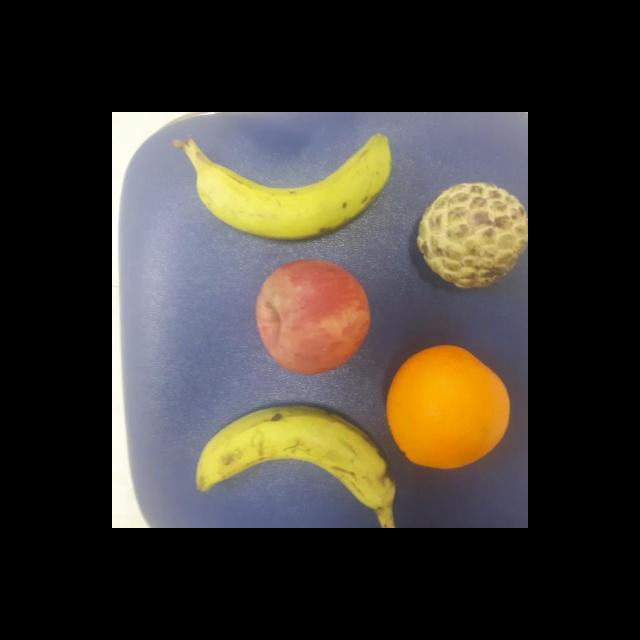Sakya fruit: (415, 180, 528, 292)
apple: (254, 256, 372, 376)
banana: (195, 399, 398, 516), (180, 134, 396, 243)
orange: (385, 341, 512, 470)
